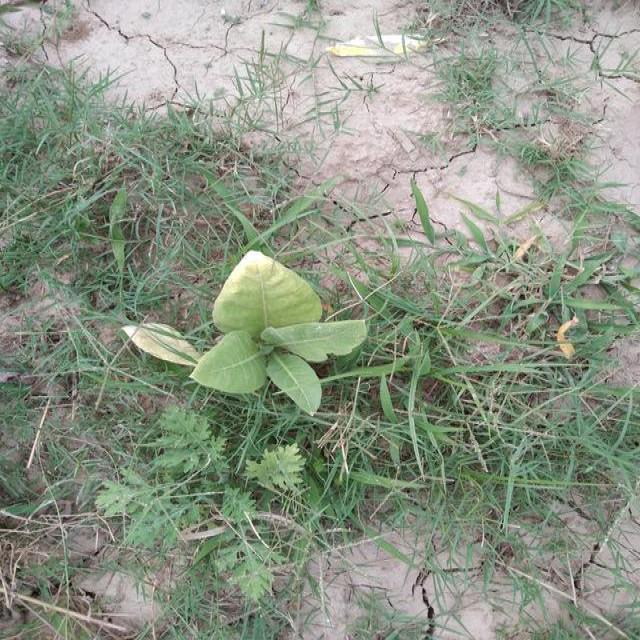crop: (122, 245, 368, 417)
